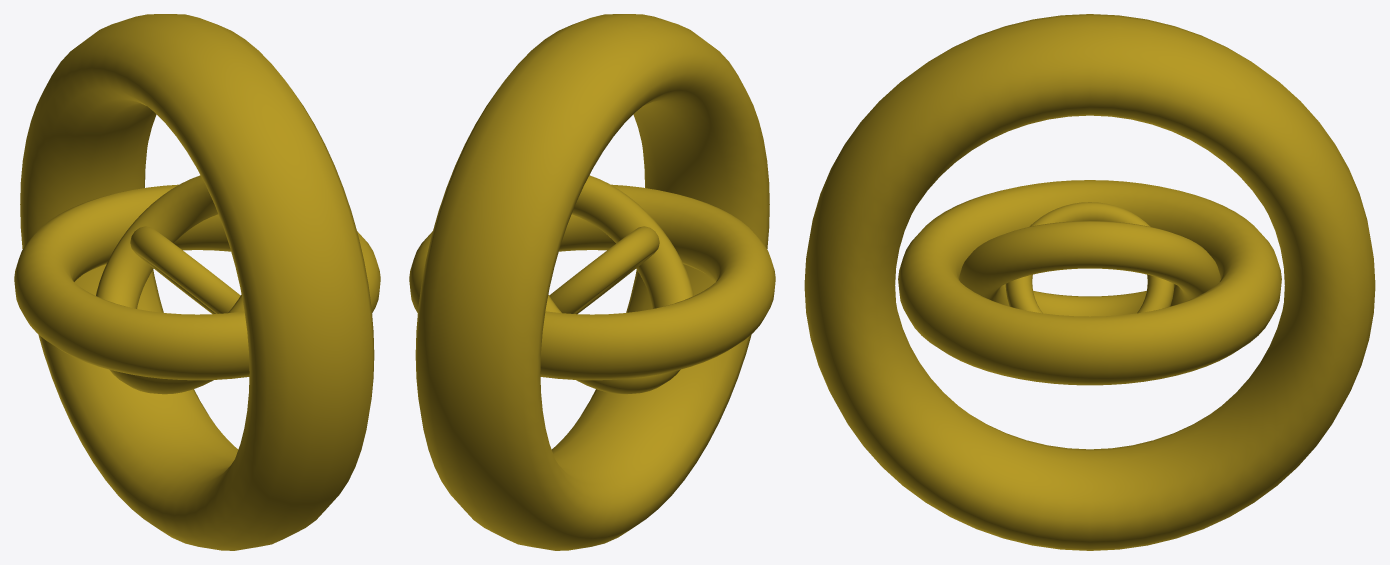
File: Light.obj
3 views of the same model, side by side, from view 1: azimuth 30°, elevation 25°; view 2: azimuth 150°, elevation 25°; view 3: azimuth 270°, elevation 25° (orthographic). The views are drawn at different scales.
Parts seen in each view (by area): view 1: Torus_Knot001; view 2: Torus_Knot001; view 3: Torus_Knot001.
Part boxes in pixels (left/top/right/bottom): Torus_Knot001: left=14, top=14, right=380, bottom=550; Torus_Knot001: left=409, top=14, right=775, bottom=550; Torus_Knot001: left=804, top=14, right=1375, bottom=550.
Size of the model in its own units: 41.37 by 61.53 by 61.53.
